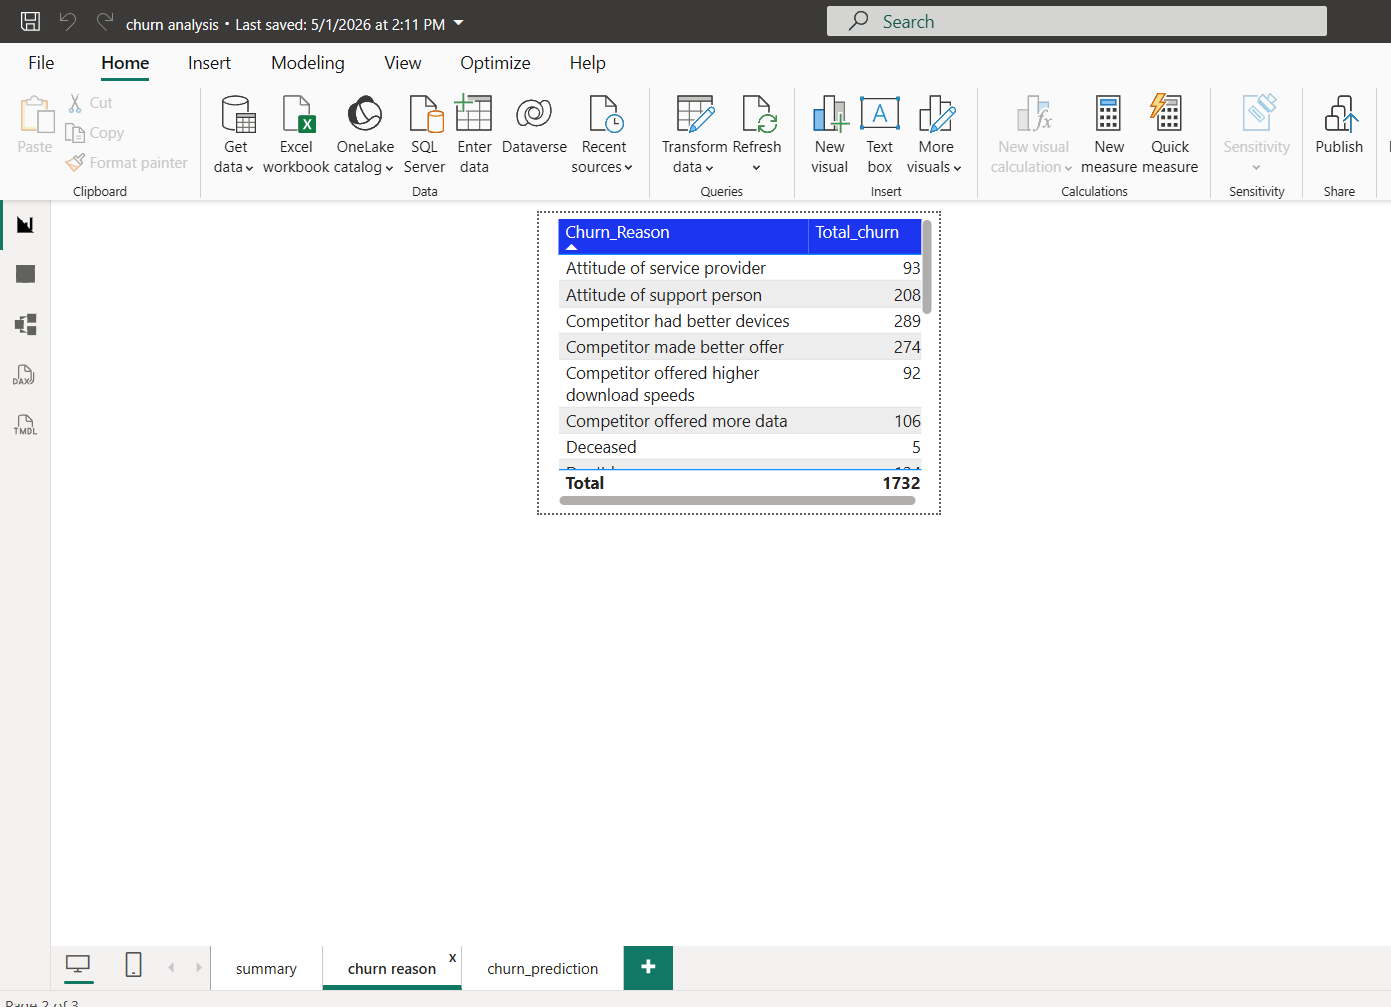

Layout of this report page (visuals, bound fields, positions):
{"tool":"powerbi","page":{"name":"churn reason","canvas":[320,240],"ordinal":1},"visuals":[{"type":"tableEx","fields":{"Values":["prod_Churn.Churn_Reason","tbl_Measures.Total_churn"]},"box":[10,0,310,240],"z":0}]}

Visuals, with their boxes on the page's 320x240 design canvas (x1, y1, x2, y2). These are canvas units, not pixel positions in the 1391x1007 screenshot, which may show the page scaled, cropped or inside an application window:
tableEx - prod_Churn.Churn_Reason x tbl_Measures.Total_churn: (x1=10, y1=0, x2=320, y2=240)
